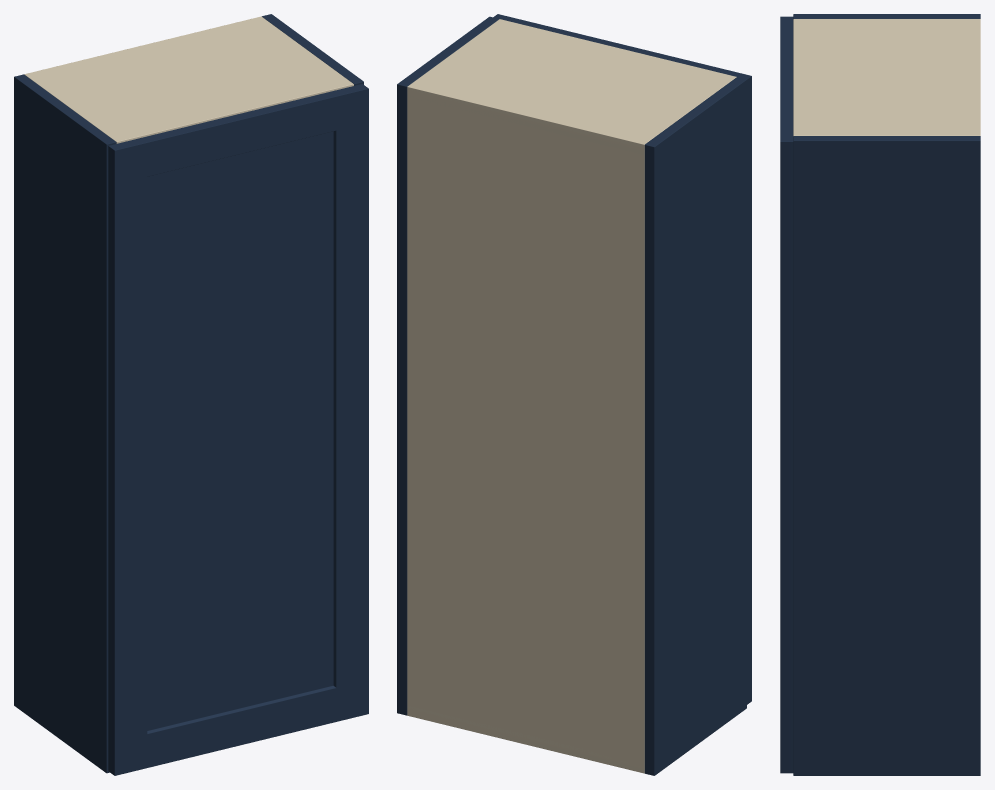
The model's file is oppein-ply-bss-w1842.glb.
3 views of the same model, side by side, from view 1: azimuth 30°, elevation 25°; view 2: azimuth 150°, elevation 25°; view 3: azimuth 270°, elevation 25° (orthographic).
Parts seen in each view (by area): view 1: Door, Cabinet side, Cabinet top, Cabinet side.001; view 2: Cabinet back, Cabinet side, Cabinet top, Cabinet side.001, Door, Cabinet bottom; view 3: Cabinet side.001, Cabinet top, Door, Cabinet side.
Part boxes in pixels (x1=…): Door: x1=108, y1=84, x2=368, y2=775; Cabinet side: x1=14, y1=74, x2=116, y2=773; Cabinet top: x1=24, y1=16, x2=353, y2=143; Cabinet side.001: x1=262, y1=14, x2=363, y2=85; Cabinet back: x1=407, y1=87, x2=644, y2=771; Cabinet side: x1=644, y1=77, x2=746, y2=775; Cabinet top: x1=407, y1=19, x2=736, y2=154; Cabinet side.001: x1=397, y1=16, x2=499, y2=715; Door: x1=493, y1=14, x2=751, y2=704; Cabinet bottom: x1=407, y1=706, x2=644, y2=773; Cabinet side.001: x1=793, y1=136, x2=980, y2=775; Cabinet top: x1=793, y1=19, x2=980, y2=135; Door: x1=780, y1=16, x2=793, y2=773; Cabinet side: x1=793, y1=14, x2=980, y2=18.
Bounding box in the file's own units: 0.4572 × 1.07 × 0.3048.
